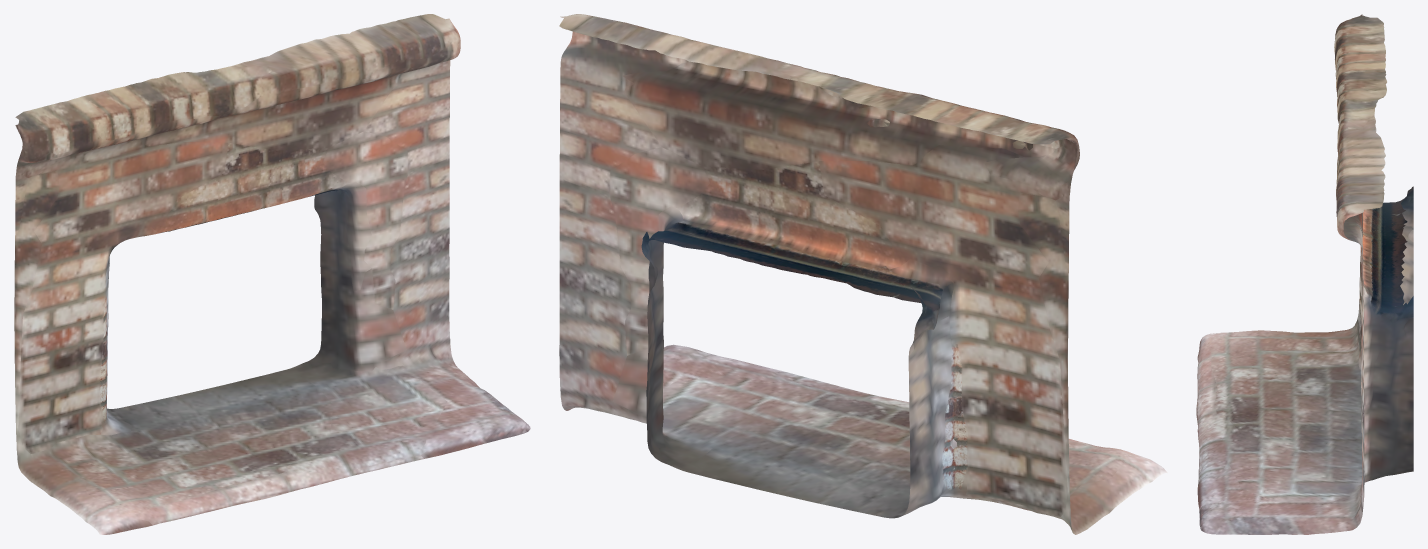
Rendered from fireplace.glb.
3 views of the same model, side by side, from view 1: azimuth 30°, elevation 25°; view 2: azimuth 150°, elevation 25°; view 3: azimuth 270°, elevation 25° (orthographic). The views are drawn at different scales.
Visible parts, largest first — view 1: Object_2; view 2: Object_2; view 3: Object_2.
Part boxes in pixels (x1,y1,x2,y2): Object_2: (14,14,530,534); Object_2: (559,14,1167,534); Object_2: (1196,14,1413,534).
Bounding box in the file's own units: 1.61 × 1.23 × 0.7478.
Materials: 1 (1 with a texture image).
